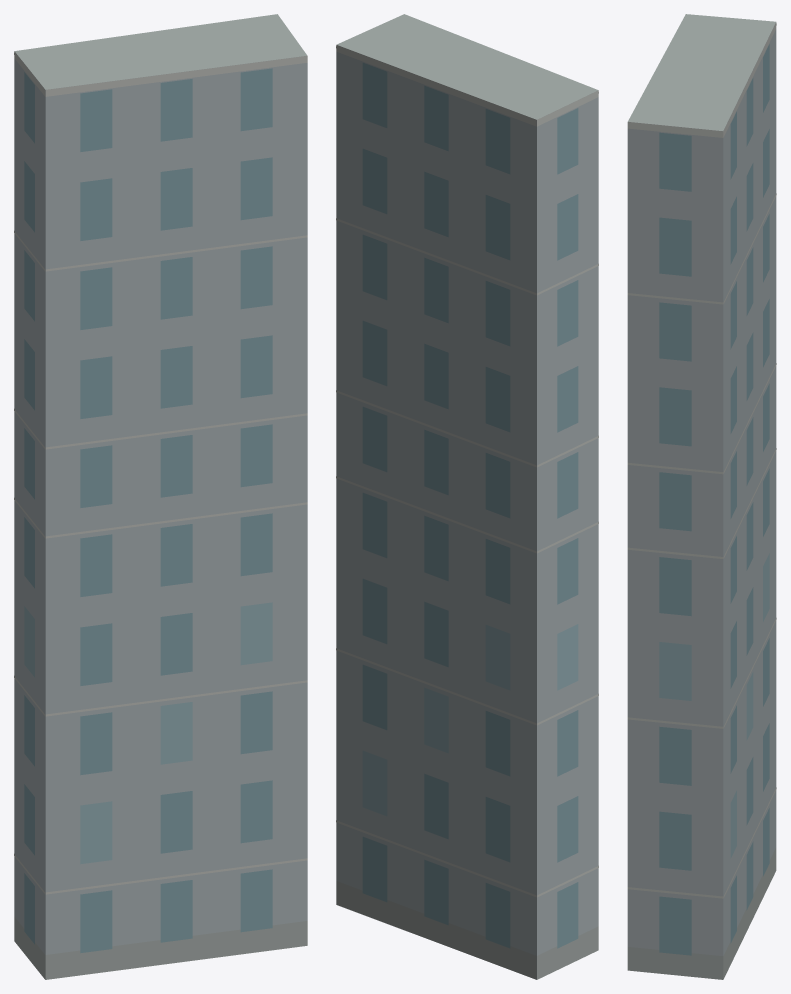
The model's file is survey-upis-32674530.glb.
3 renders of one model, left to right at view 1: azimuth 30°, elevation 25°; view 2: azimuth 150°, elevation 25°; view 3: azimuth 270°, elevation 25°, orthographic. The views are drawn at different scales.
Parts seen in each view (by area): view 1: survey-upis-32674530.tmp; view 2: survey-upis-32674530.tmp; view 3: survey-upis-32674530.tmp.
Part boxes in pixels (<box>): survey-upis-32674530.tmp: <box>14,14,307,979</box>; survey-upis-32674530.tmp: <box>336,14,598,979</box>; survey-upis-32674530.tmp: <box>627,14,776,979</box>.
Bounding box in the file's own units: 9.06 × 30.5 × 4.87.
